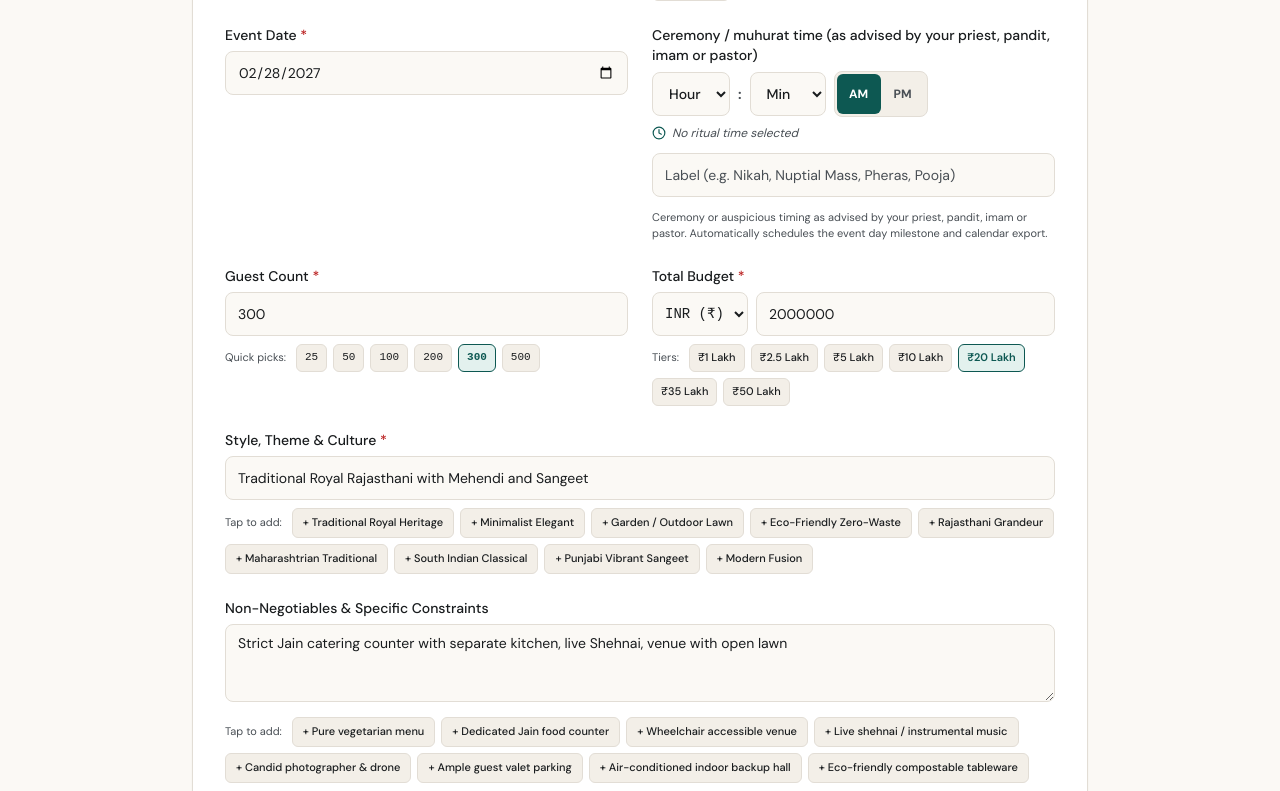
Scenario: IntakeForm Idea Chips & Muhurat Timing › replaces budget amount when a budget tier chip is clicked
(page scrolled)
Click the button "₹35 Lakh".
click(685, 392)  # box top-left (652, 378), bottom-right (717, 406)
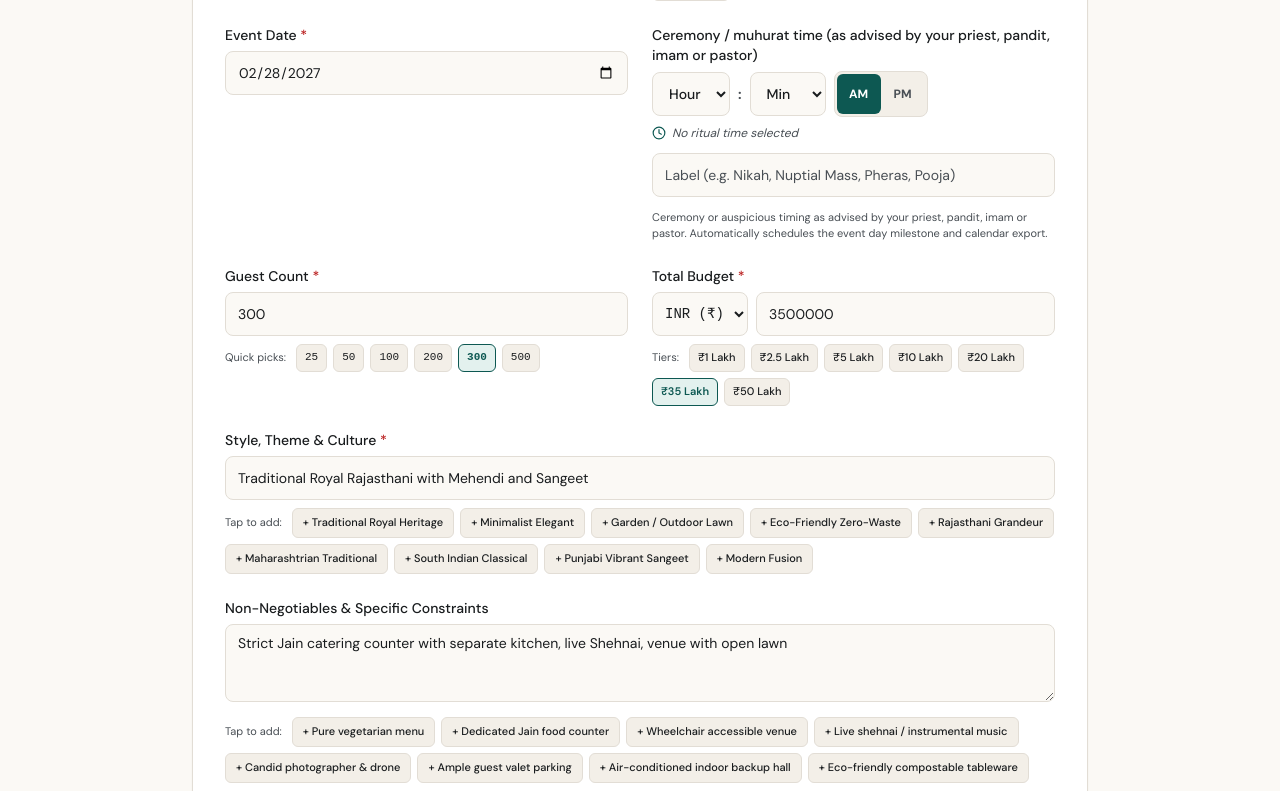
Expected: the number field labelled "Total Budget *" holds "3500000", top-left (756, 292), bottom-right (1055, 336)
